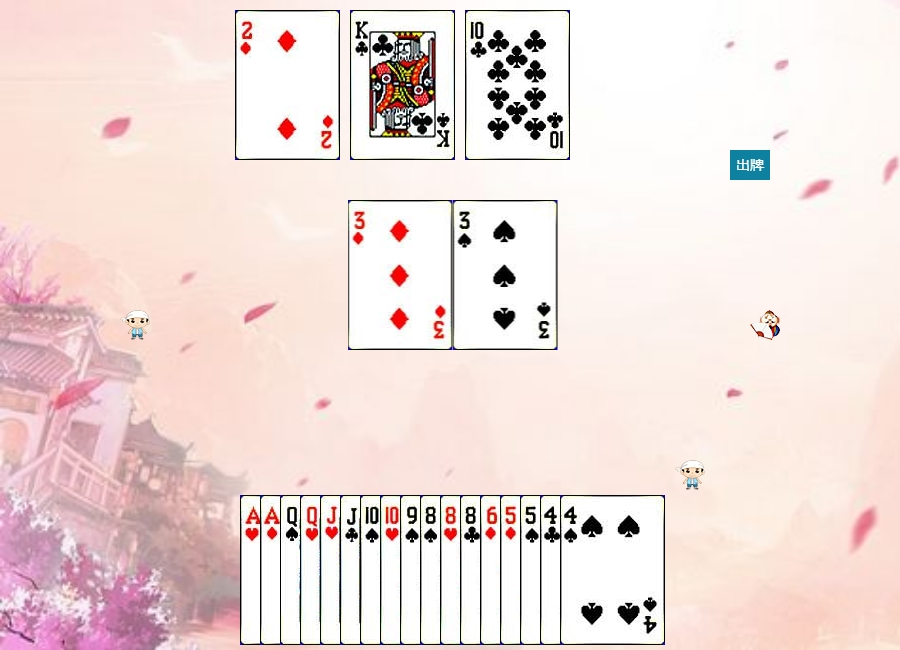10~2: (465, 10, 570, 160)
10~3: (380, 495, 485, 645)
10~4: (360, 495, 465, 645)
11~2: (340, 495, 445, 645)
11~3: (320, 495, 425, 645)
12~3: (300, 495, 405, 645)
12~4: (280, 495, 385, 645)
13~2: (350, 10, 455, 160)
14~1: (260, 495, 365, 645)
14~3: (240, 495, 345, 645)
15~1: (235, 10, 340, 160)
3~1: (348, 200, 453, 350)
3~4: (453, 200, 558, 350)
4~2: (540, 495, 645, 645)
4~4: (560, 495, 665, 645)
5~1: (500, 495, 605, 645)
5~4: (520, 495, 625, 645)
6~1: (480, 495, 585, 645)
8~2: (460, 495, 565, 645)
8~3: (440, 495, 545, 645)
8~4: (420, 495, 525, 645)
9~4: (400, 495, 505, 645)
